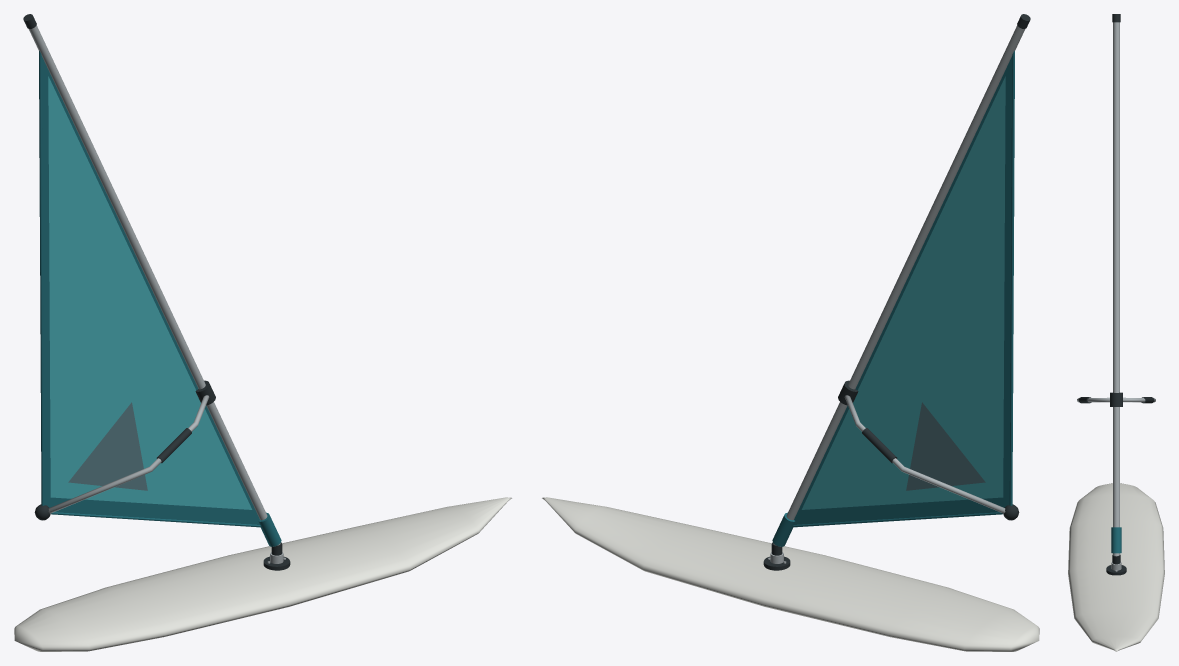
The picture shows the model from 3 angles, left to right: view 1: azimuth 30°, elevation 25°; view 2: azimuth 150°, elevation 25°; view 3: azimuth 270°, elevation 25°; orthographic projection. The views are drawn at different scales.
Visible parts, largest first — view 1: Closed thickness partitioned sail and opaque window, Original closed rocker windsurf board, Long diagonal mast, Sail perimeter bead 0, Original bowed boom arm -1; view 2: Closed thickness partitioned sail and opaque window, Original closed rocker windsurf board, Long diagonal mast, Sail perimeter bead 0, Original bowed boom arm 1; view 3: Original closed rocker windsurf board, Long diagonal mast, Lower mast retaining sleeve, Boom mast attachment collar.
Boxes of the visible parts, bbox=[...] form: Closed thickness partitioned sail and opaque window: bbox=[41, 56, 259, 524]; Original closed rocker windsurf board: bbox=[14, 497, 511, 651]; Long diagonal mast: bbox=[28, 25, 280, 546]; Sail perimeter bead 0: bbox=[39, 51, 44, 505]; Original bowed boom arm -1: bbox=[48, 395, 209, 513]; Closed thickness partitioned sail and opaque window: bbox=[794, 56, 1012, 524]; Original closed rocker windsurf board: bbox=[542, 497, 1039, 651]; Long diagonal mast: bbox=[773, 25, 1025, 546]; Sail perimeter bead 0: bbox=[1009, 51, 1014, 505]; Original bowed boom arm 1: bbox=[844, 395, 1005, 513]; Original closed rocker windsurf board: bbox=[1068, 483, 1164, 651]; Long diagonal mast: bbox=[1113, 22, 1119, 556]; Lower mast retaining sleeve: bbox=[1111, 527, 1121, 553]; Boom mast attachment collar: bbox=[1110, 392, 1122, 406].
Bounding box in the file's own units: 2.81 × 3.42 × 0.62.
